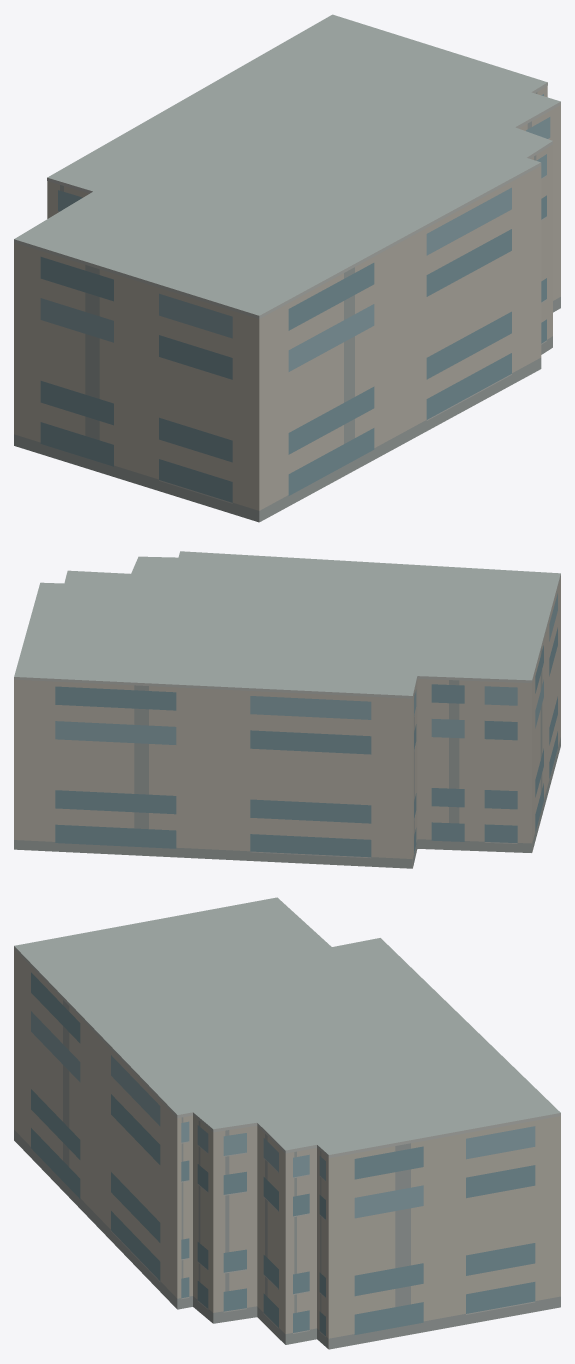
Rendered from survey-upis-32700306.glb.
3 renders of one model, top to bottom at view 1: azimuth 30°, elevation 25°; view 2: azimuth 150°, elevation 25°; view 3: azimuth 270°, elevation 25°, orthographic. The views are drawn at different scales.
Visible parts, largest first — view 1: survey-upis-32700306.tmp; view 2: survey-upis-32700306.tmp; view 3: survey-upis-32700306.tmp.
Part boxes in pixels (x1=…): survey-upis-32700306.tmp: x1=14, y1=14, x2=560, y2=522; survey-upis-32700306.tmp: x1=14, y1=551, x2=560, y2=868; survey-upis-32700306.tmp: x1=14, y1=897, x2=560, y2=1349.
Size of the model in its own units: 43.34 by 15.25 by 38.87.
